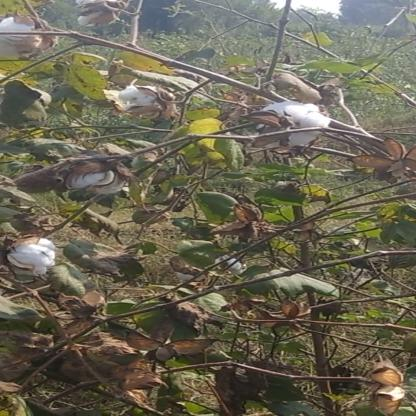cotton_ready: (244, 96, 330, 146), (1, 228, 76, 276)
